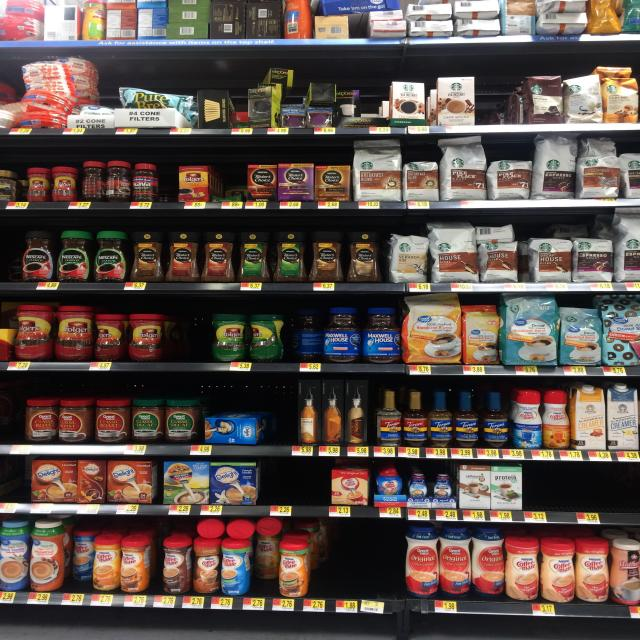empty_space: (531, 470, 640, 510), (333, 533, 400, 595), (272, 466, 324, 502), (485, 71, 515, 121), (178, 303, 202, 361), (3, 460, 25, 498), (5, 399, 23, 438)
